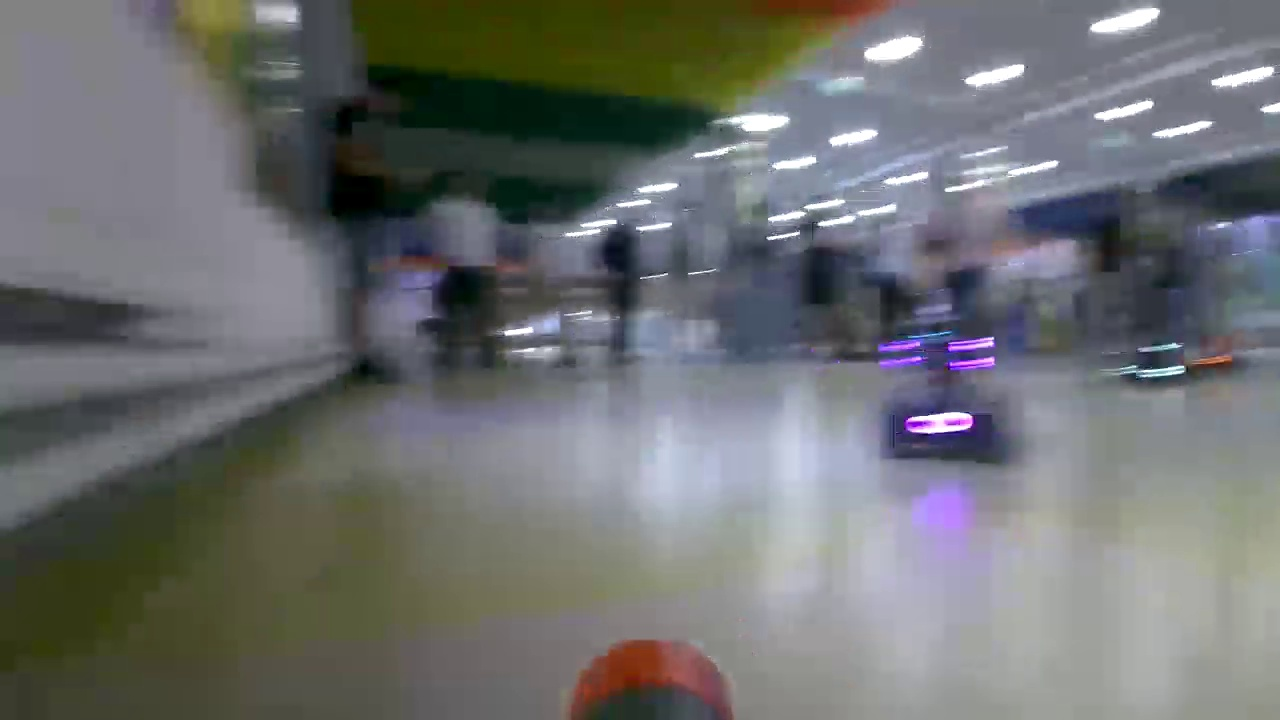robot: (876, 325, 1013, 468), (1108, 337, 1191, 390), (1187, 334, 1251, 381)
